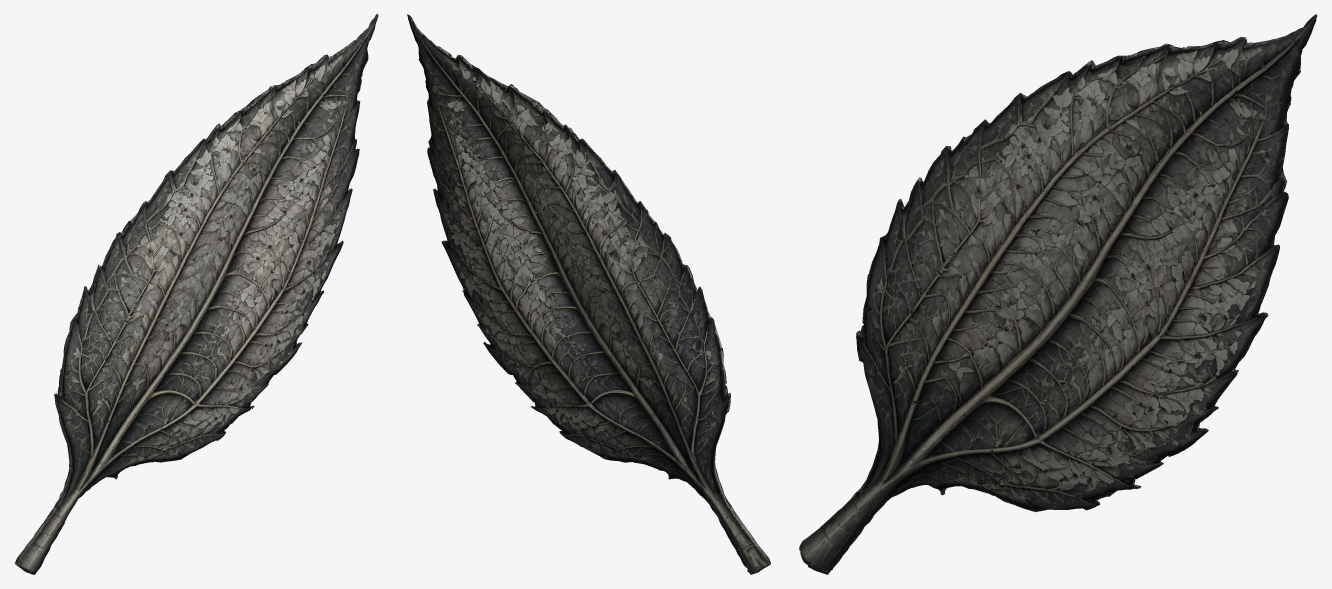
File: Prop_SilverLeaf.fbx
3 renders of one model, left to right at view 1: azimuth 30°, elevation 25°; view 2: azimuth 150°, elevation 25°; view 3: azimuth 330°, elevation 25°, orthographic. The views are drawn at different scales.
Visible parts, largest first — view 1: texture_mapping; view 2: texture_mapping; view 3: texture_mapping.
Boxes of the visible parts, <box> form: texture_mapping: <box>14,14,378,574</box>; texture_mapping: <box>407,14,770,574</box>; texture_mapping: <box>799,14,1317,574</box>.
Size of the model in its own units: 0.7911 by 0.0619 by 0.9932.
1 material, 1 textured.
